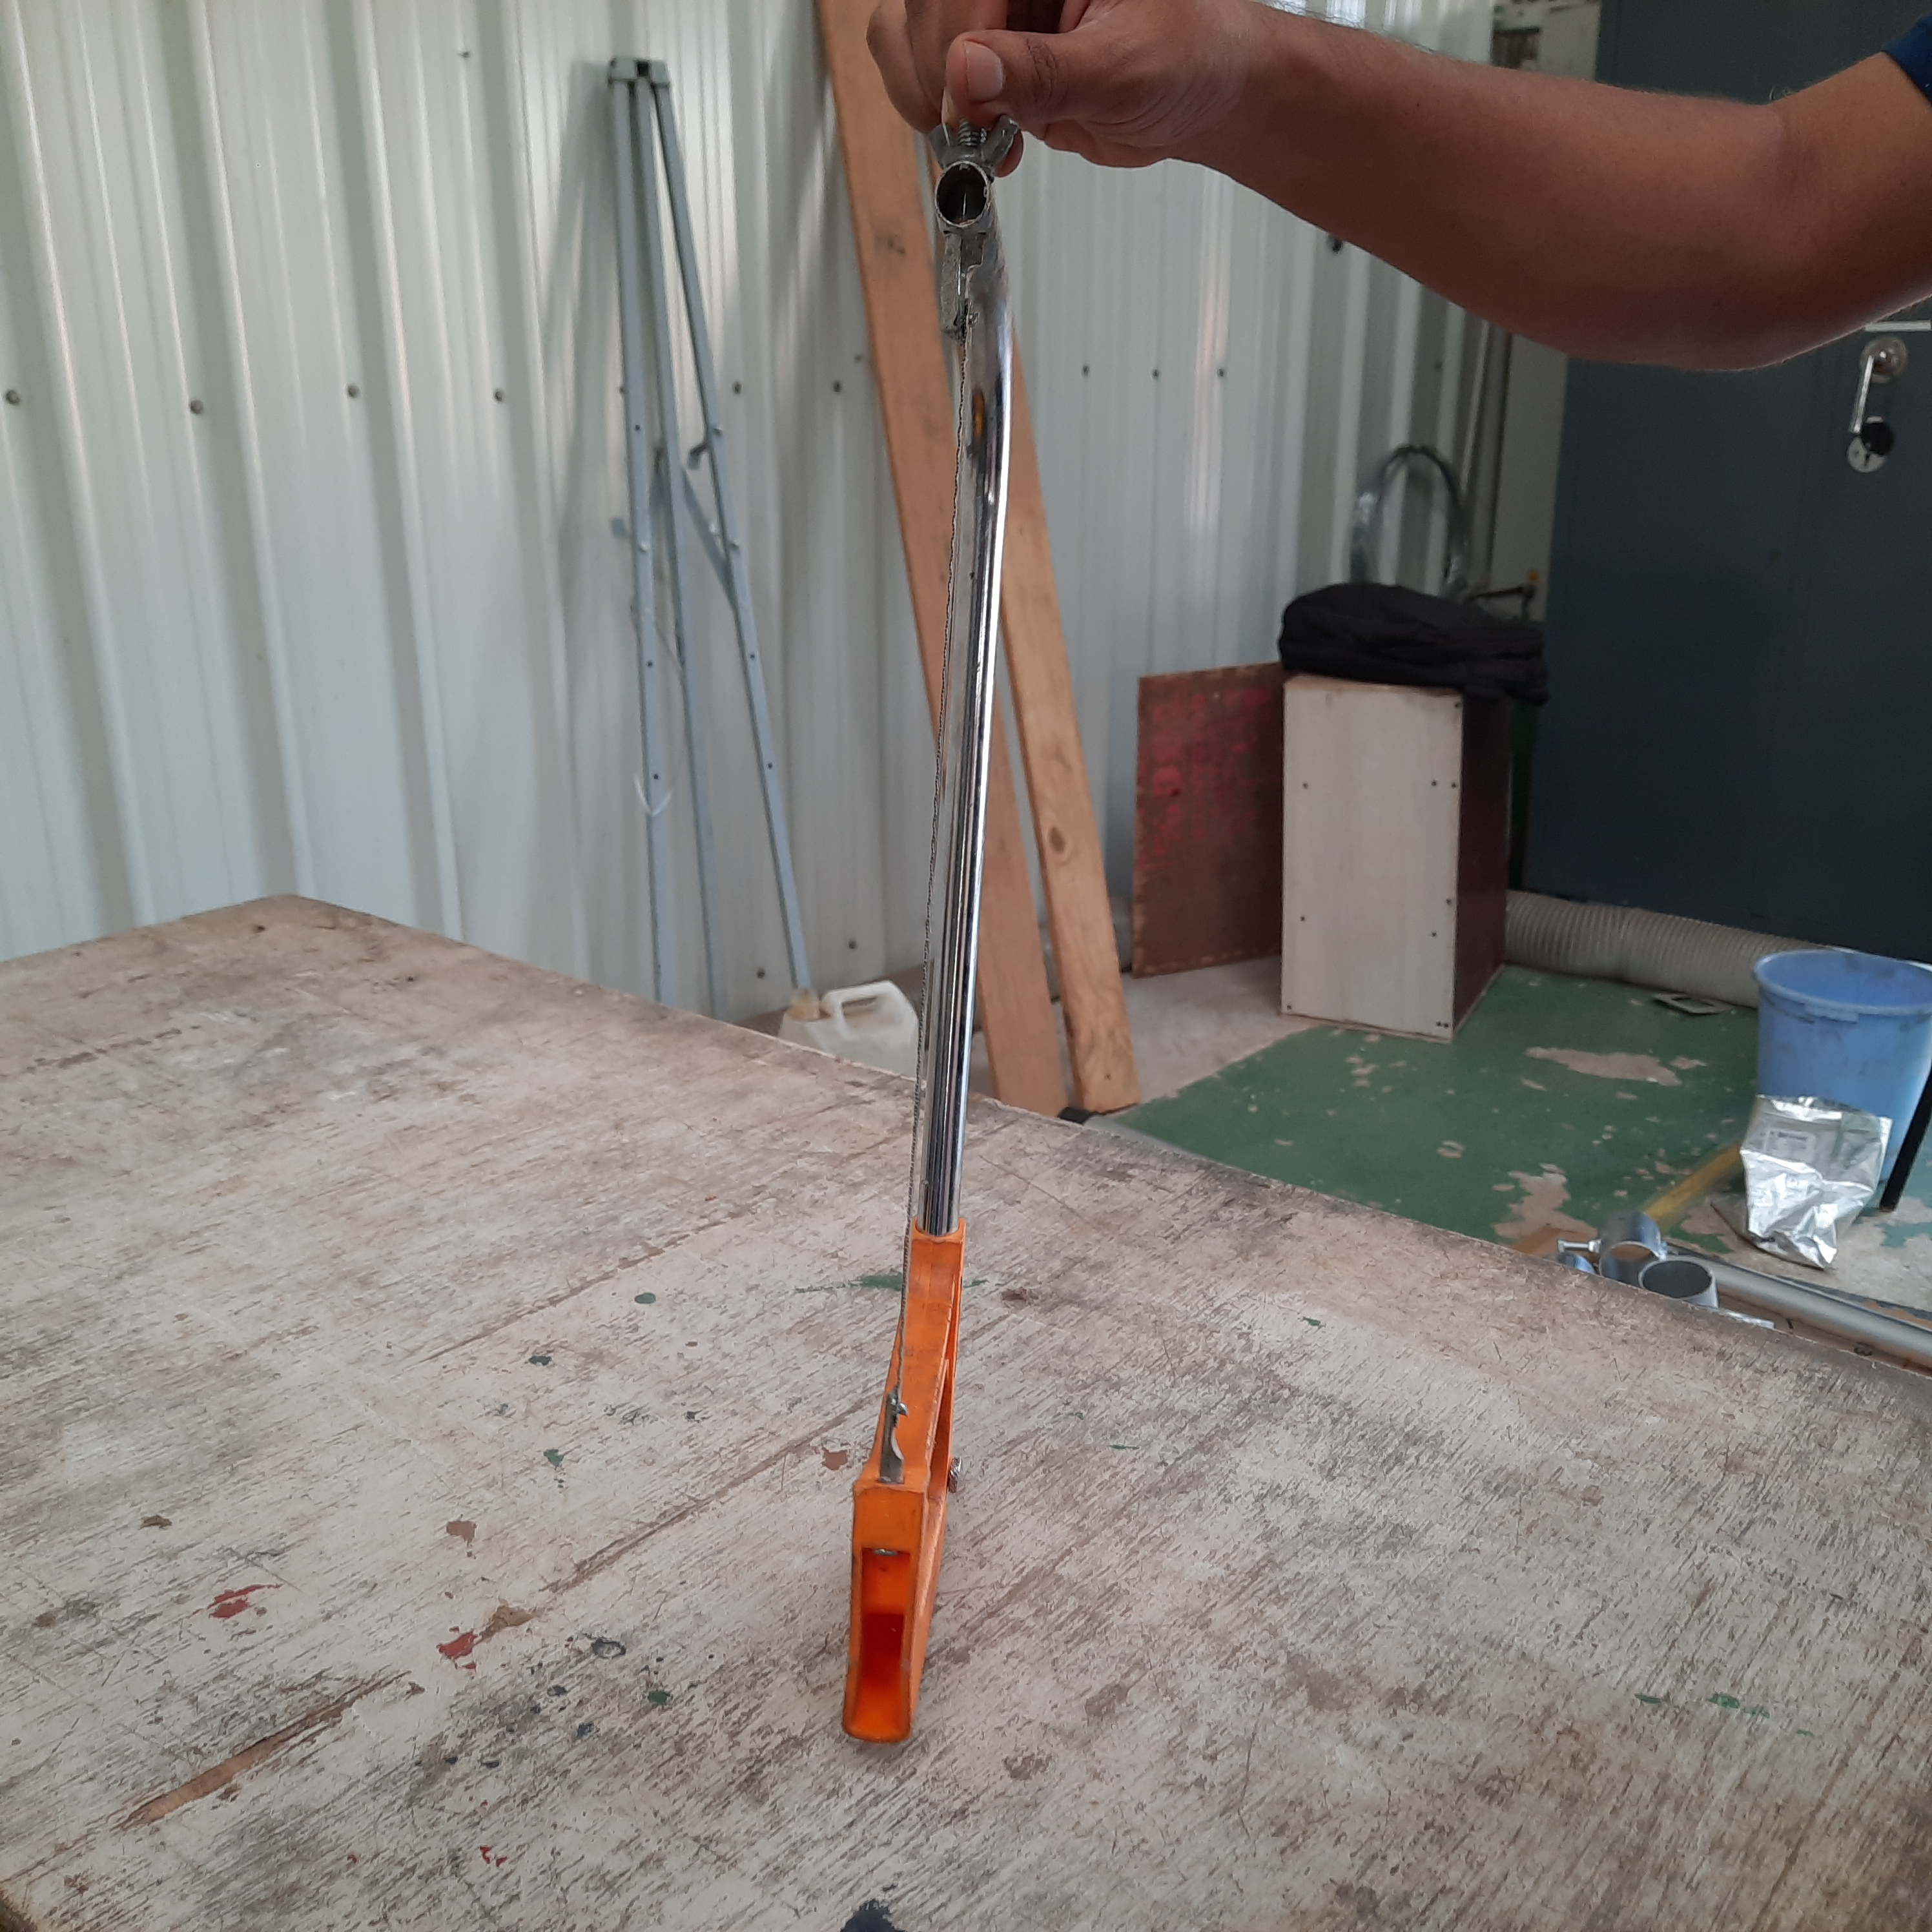Hexaframe: (777, 103, 1164, 1760)
